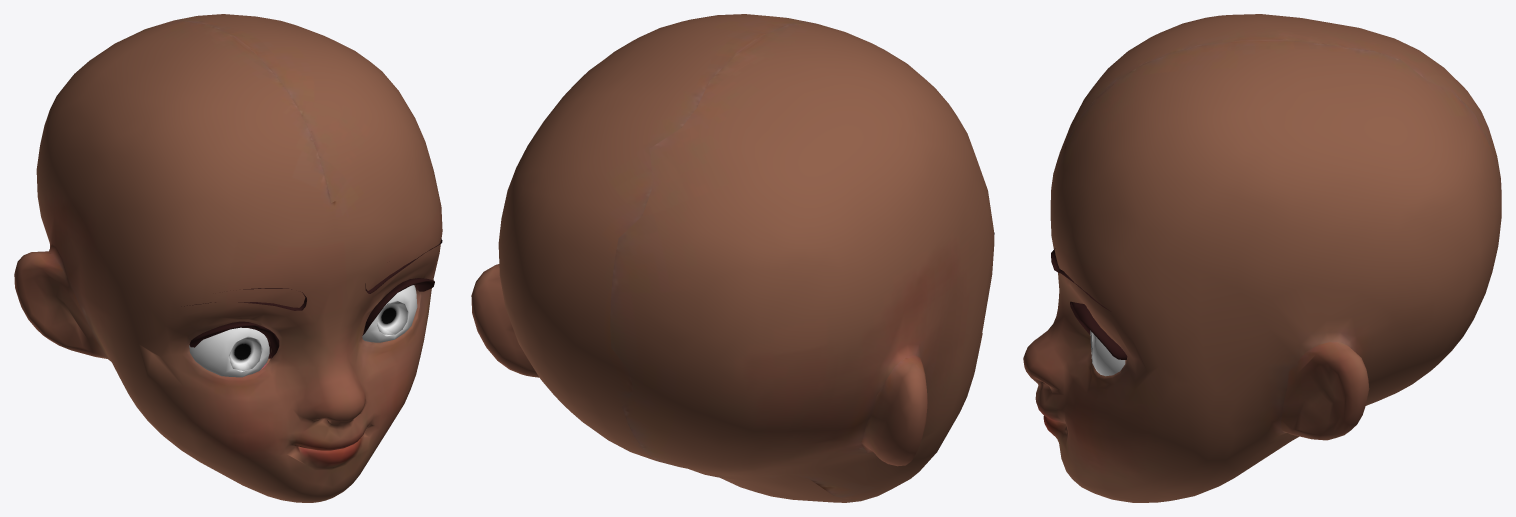
3 renders of one model, left to right at view 1: azimuth 30°, elevation 25°; view 2: azimuth 150°, elevation 25°; view 3: azimuth 270°, elevation 25°, orthographic. The views are drawn at different scales.
Parts seen in each view (by area): view 1: skin.001, eyes.001, lashes.001, brows.001; view 2: skin.001; view 3: skin.001, lashes.001, eyes.001.
Part boxes in pixels (bbox=[...]): skin.001: bbox=[14, 14, 442, 502]; eyes.001: bbox=[189, 285, 417, 377]; lashes.001: bbox=[189, 278, 434, 358]; brows.001: bbox=[181, 238, 442, 310]; skin.001: bbox=[471, 14, 994, 502]; skin.001: bbox=[1023, 14, 1501, 502]; lashes.001: bbox=[1070, 301, 1127, 359]; eyes.001: bbox=[1090, 330, 1125, 376].
Bounding box in the file's own units: 1.9 × 2 × 1.92.
9 materials, 2 textured.
